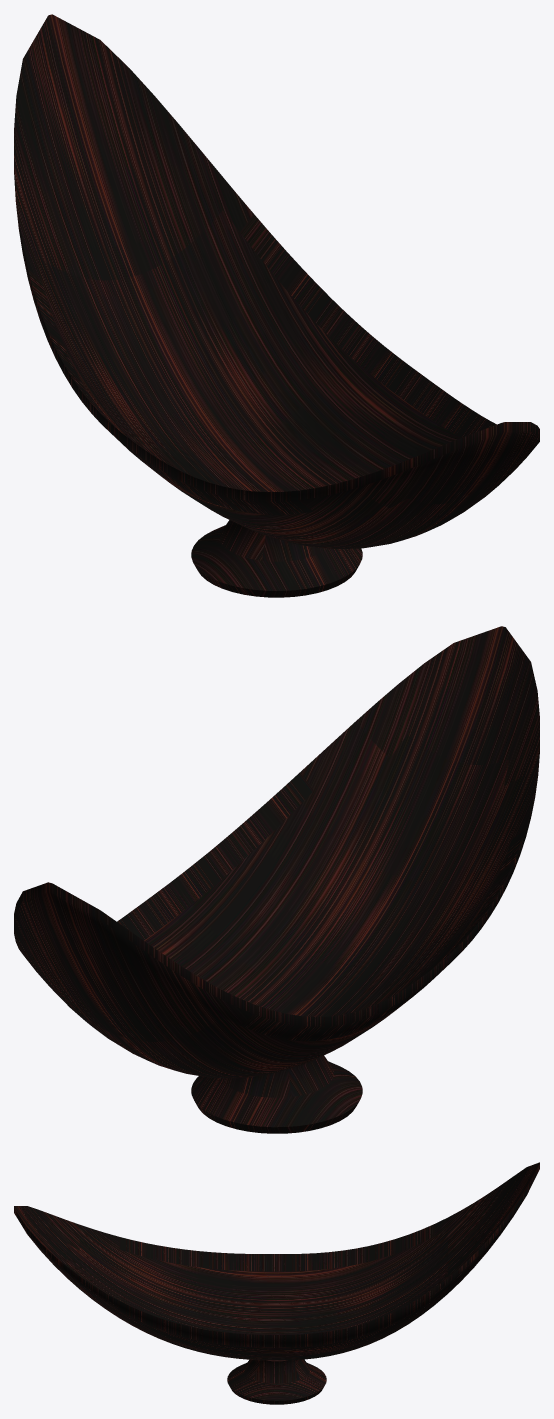
Rendered from recjg46EtB3Ocu9OZ.glb.
3 renders of one model, top to bottom at view 1: azimuth 30°, elevation 25°; view 2: azimuth 150°, elevation 25°; view 3: azimuth 270°, elevation 25°, orthographic. The views are drawn at different scales.
Parts seen in each view (by area): view 1: Coupe_Buffet_Corps; view 2: Coupe_Buffet_Corps; view 3: Coupe_Buffet_Corps.
Boxes of the visible parts, x1,y1,x2,y2 form: Coupe_Buffet_Corps: (14,14,539,597); Coupe_Buffet_Corps: (14,626,539,1133); Coupe_Buffet_Corps: (14,1162,539,1404).
Size of the model in its own units: 0.138 by 0.177 by 0.38.
1 material, 1 textured.
